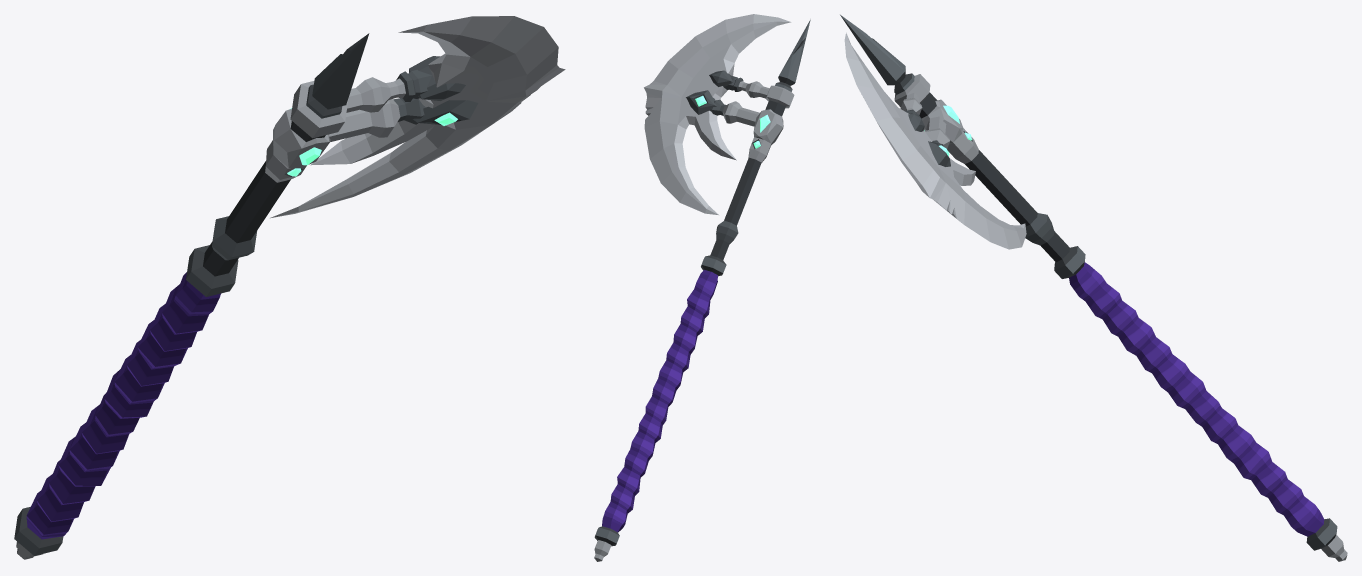
File: er-axe-03.glb
The picture shows the model from 3 angles, left to right: view 1: azimuth 30°, elevation 25°; view 2: azimuth 150°, elevation 25°; view 3: azimuth 270°, elevation 25°; orthographic projection. The views are drawn at different scales.
Parts seen in each view (by area): view 1: er-axe-03; view 2: er-axe-03; view 3: er-axe-03.
Boxes of the visible parts, left/top/right/bottom form: er-axe-03: left=14, top=16, right=565, bottom=559; er-axe-03: left=594, top=14, right=810, bottom=561; er-axe-03: left=840, top=14, right=1347, bottom=561.
Bounding box in the file's own units: 0.4246 × 1.16 × 0.999.
Materials: 1 (1 with a texture image).
